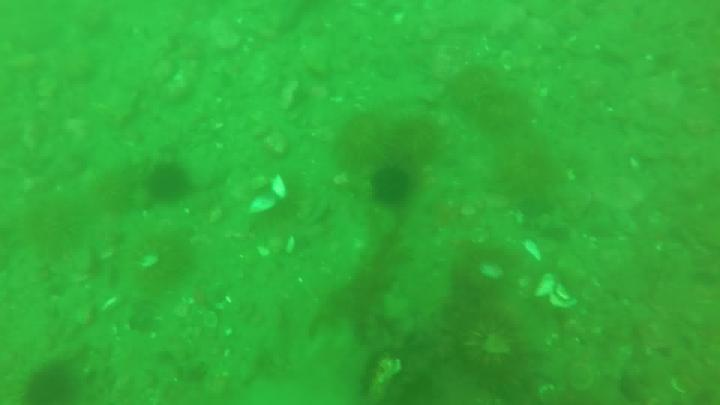echinus: (454, 312, 524, 378), (498, 144, 554, 207), (335, 114, 394, 167), (451, 62, 503, 122), (483, 90, 540, 142), (24, 364, 78, 405), (146, 166, 191, 202), (371, 170, 412, 202)
scallop: (535, 273, 579, 310), (244, 176, 288, 213), (481, 261, 506, 281), (520, 239, 541, 261), (139, 257, 159, 269)
